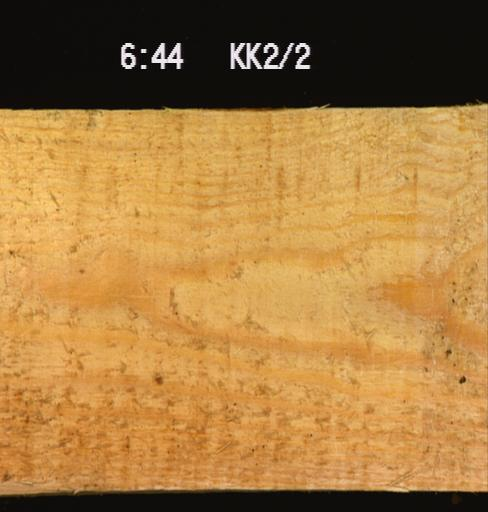small_knot: (151, 371, 163, 385)
